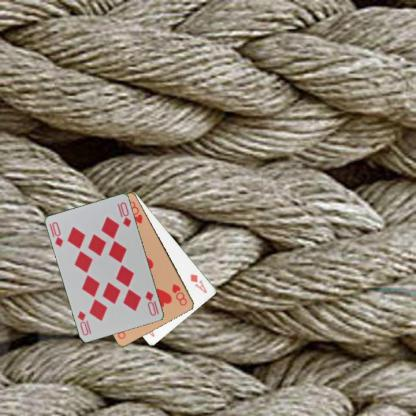10d: (143, 288, 160, 318), (50, 219, 64, 249)
8h: (170, 281, 188, 307)
Ad: (187, 272, 208, 294)
